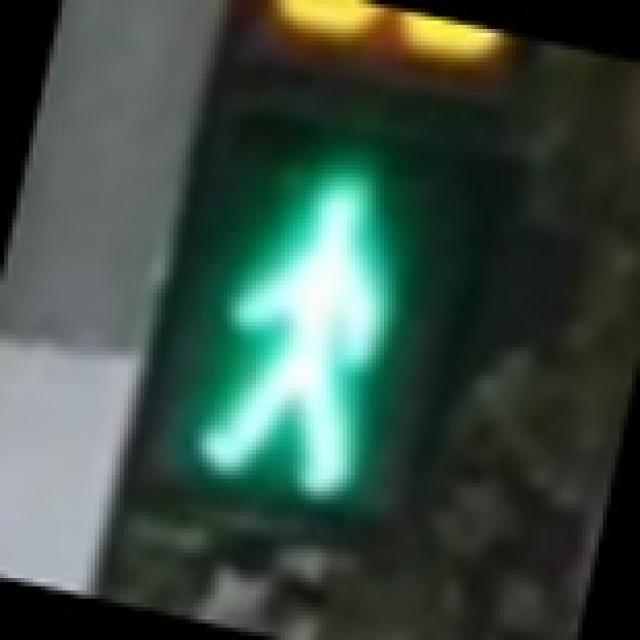green_light: (132, 79, 496, 558)
